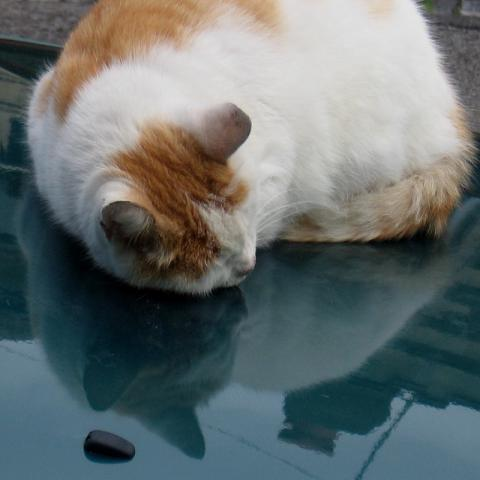car: (2, 34, 480, 479)
